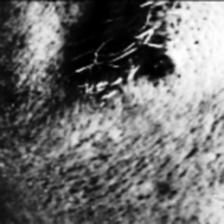Unclassified: (144, 47, 176, 85)
